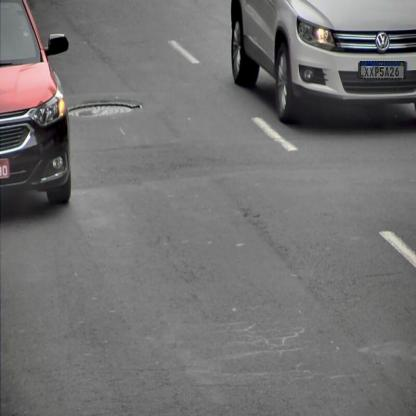PlacaM: (360, 61, 404, 79)
